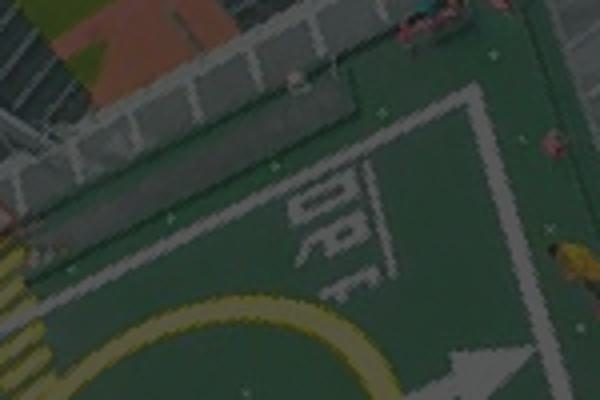Apron: (56, 293, 409, 400)
